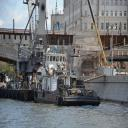tugboat: (34, 47, 102, 110)
